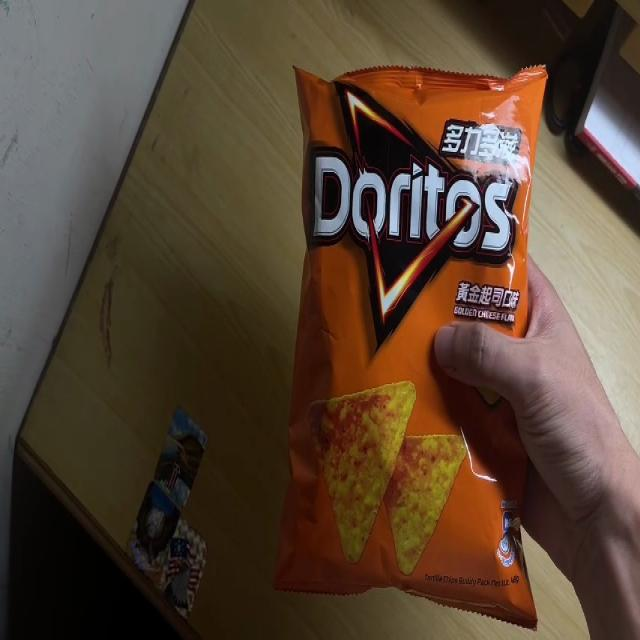Doritos: (274, 61, 549, 634)
